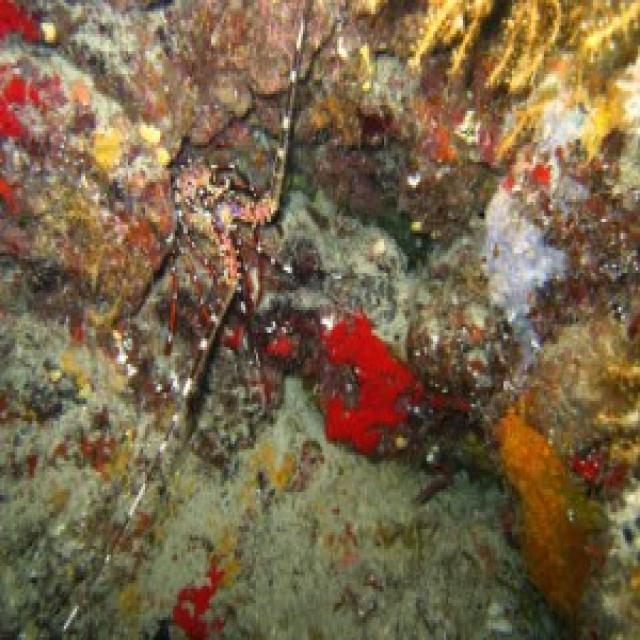lobsters: (118, 0, 342, 501)
